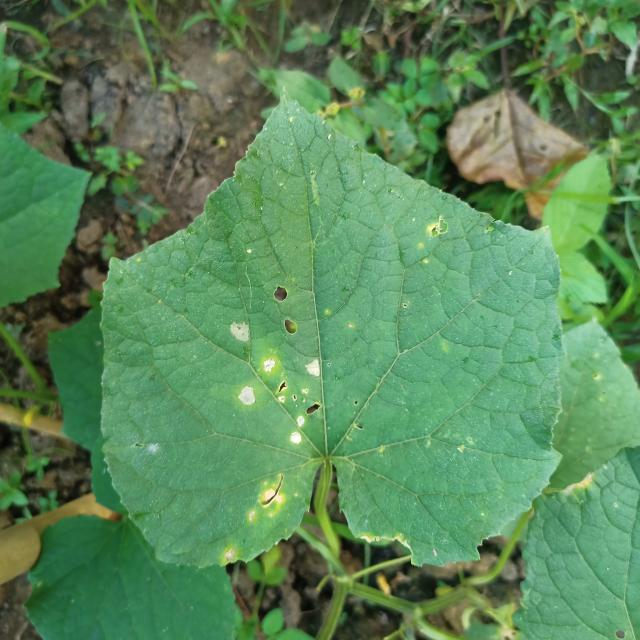disease_cucumber: (227, 314, 335, 461)
